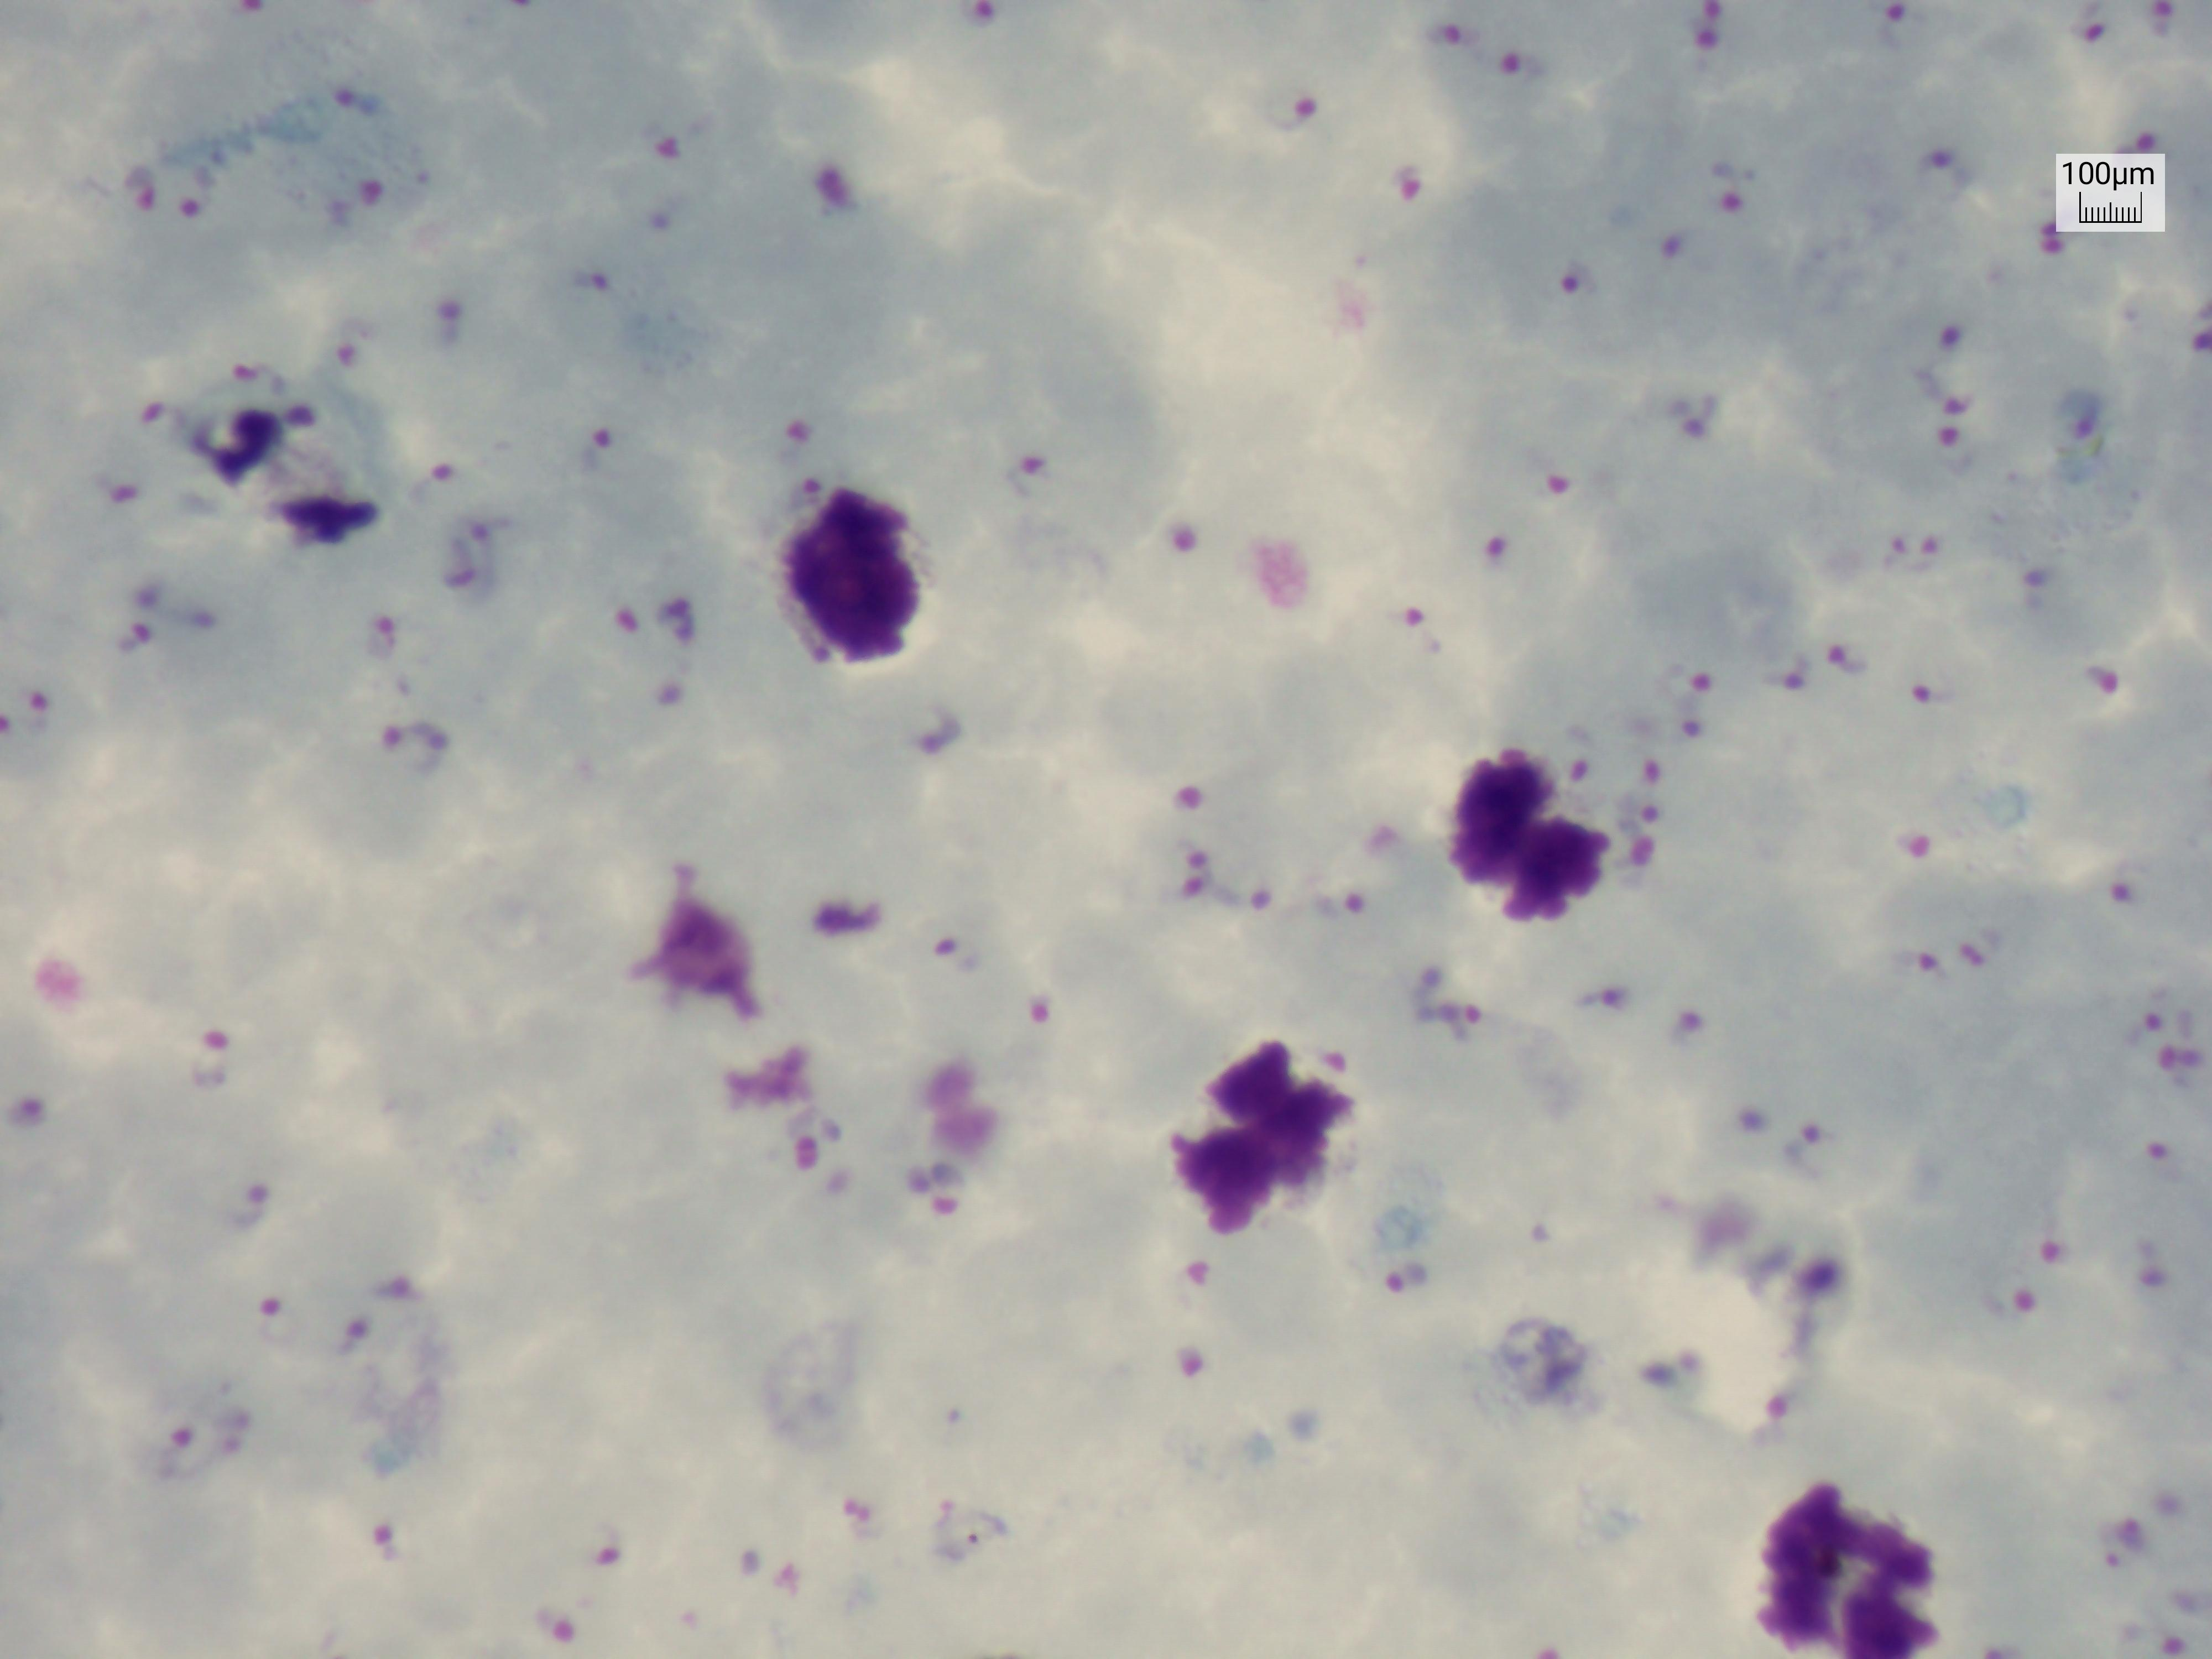p.falciparum: (606, 570, 704, 721), (763, 396, 841, 521), (113, 153, 216, 246), (1543, 239, 1632, 343), (1881, 913, 2006, 985), (1404, 969, 1508, 1053), (1911, 362, 2008, 451), (2128, 971, 2202, 1082), (376, 701, 462, 795), (1698, 136, 1768, 251), (1756, 640, 1885, 701), (1618, 735, 1683, 854), (876, 681, 975, 756), (763, 1107, 845, 1197), (1646, 366, 1738, 446), (1526, 432, 1622, 509), (171, 1004, 246, 1101), (1360, 122, 1435, 218), (2010, 173, 2088, 263), (1379, 570, 1456, 660), (899, 1150, 981, 1230), (1874, 502, 1956, 582), (914, 910, 991, 995), (2095, 1497, 2165, 1586), (570, 404, 639, 491), (1468, 523, 1538, 610), (1285, 1035, 1376, 1101), (1157, 847, 1247, 913), (1261, 64, 1329, 152), (1670, 650, 1738, 737), (152, 1403, 226, 1481), (1538, 702, 1601, 795), (1902, 127, 1977, 204), (343, 1502, 416, 1579), (1648, 193, 1710, 282), (1143, 495, 1223, 563), (1752, 1370, 1834, 1436), (320, 1295, 392, 1370), (1982, 1256, 2054, 1330), (2135, 1124, 2210, 1194), (310, 66, 401, 124), (2080, 856, 2156, 924), (2010, 526, 2067, 617), (824, 1478, 892, 1551), (1317, 882, 1393, 946), (1167, 749, 1226, 831), (345, 592, 408, 669), (1571, 969, 1644, 1033), (559, 239, 641, 296), (108, 598, 171, 673), (1883, 802, 1959, 863), (573, 1521, 646, 1584), (2067, 634, 2135, 701), (10, 669, 73, 741), (503, 1607, 606, 1650), (1360, 1244, 1440, 1300), (207, 1173, 280, 1234), (415, 441, 489, 500), (343, 155, 413, 218), (730, 1544, 803, 1603), (232, 1272, 301, 1333), (420, 281, 472, 361), (118, 382, 183, 446), (1892, 659, 1973, 709), (312, 307, 369, 376), (1177, 1234, 1238, 1298), (1656, 990, 1717, 1053), (1491, 17, 1547, 85), (1681, 0, 1752, 52), (1784, 1110, 1862, 1157), (941, 0, 1024, 44), (1007, 427, 1054, 504), (1855, 0, 1935, 44), (1418, 3, 1475, 61), (99, 474, 158, 530), (2060, 0, 2113, 59), (650, 112, 693, 181), (1916, 315, 1980, 361), (218, 347, 284, 390), (1172, 1333, 1219, 1394), (2168, 305, 2212, 369), (2146, 1610, 2203, 1659), (2132, 0, 2188, 45), (1017, 974, 1057, 1033), (1251, 875, 1296, 927)
